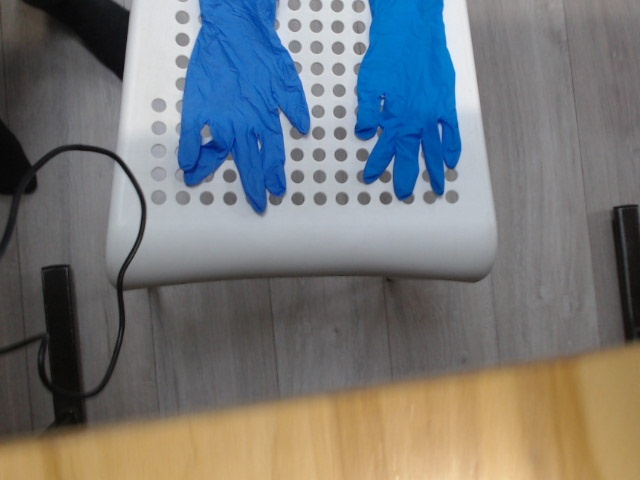medical_glove: (179, 1, 310, 212), (356, 1, 462, 199)
